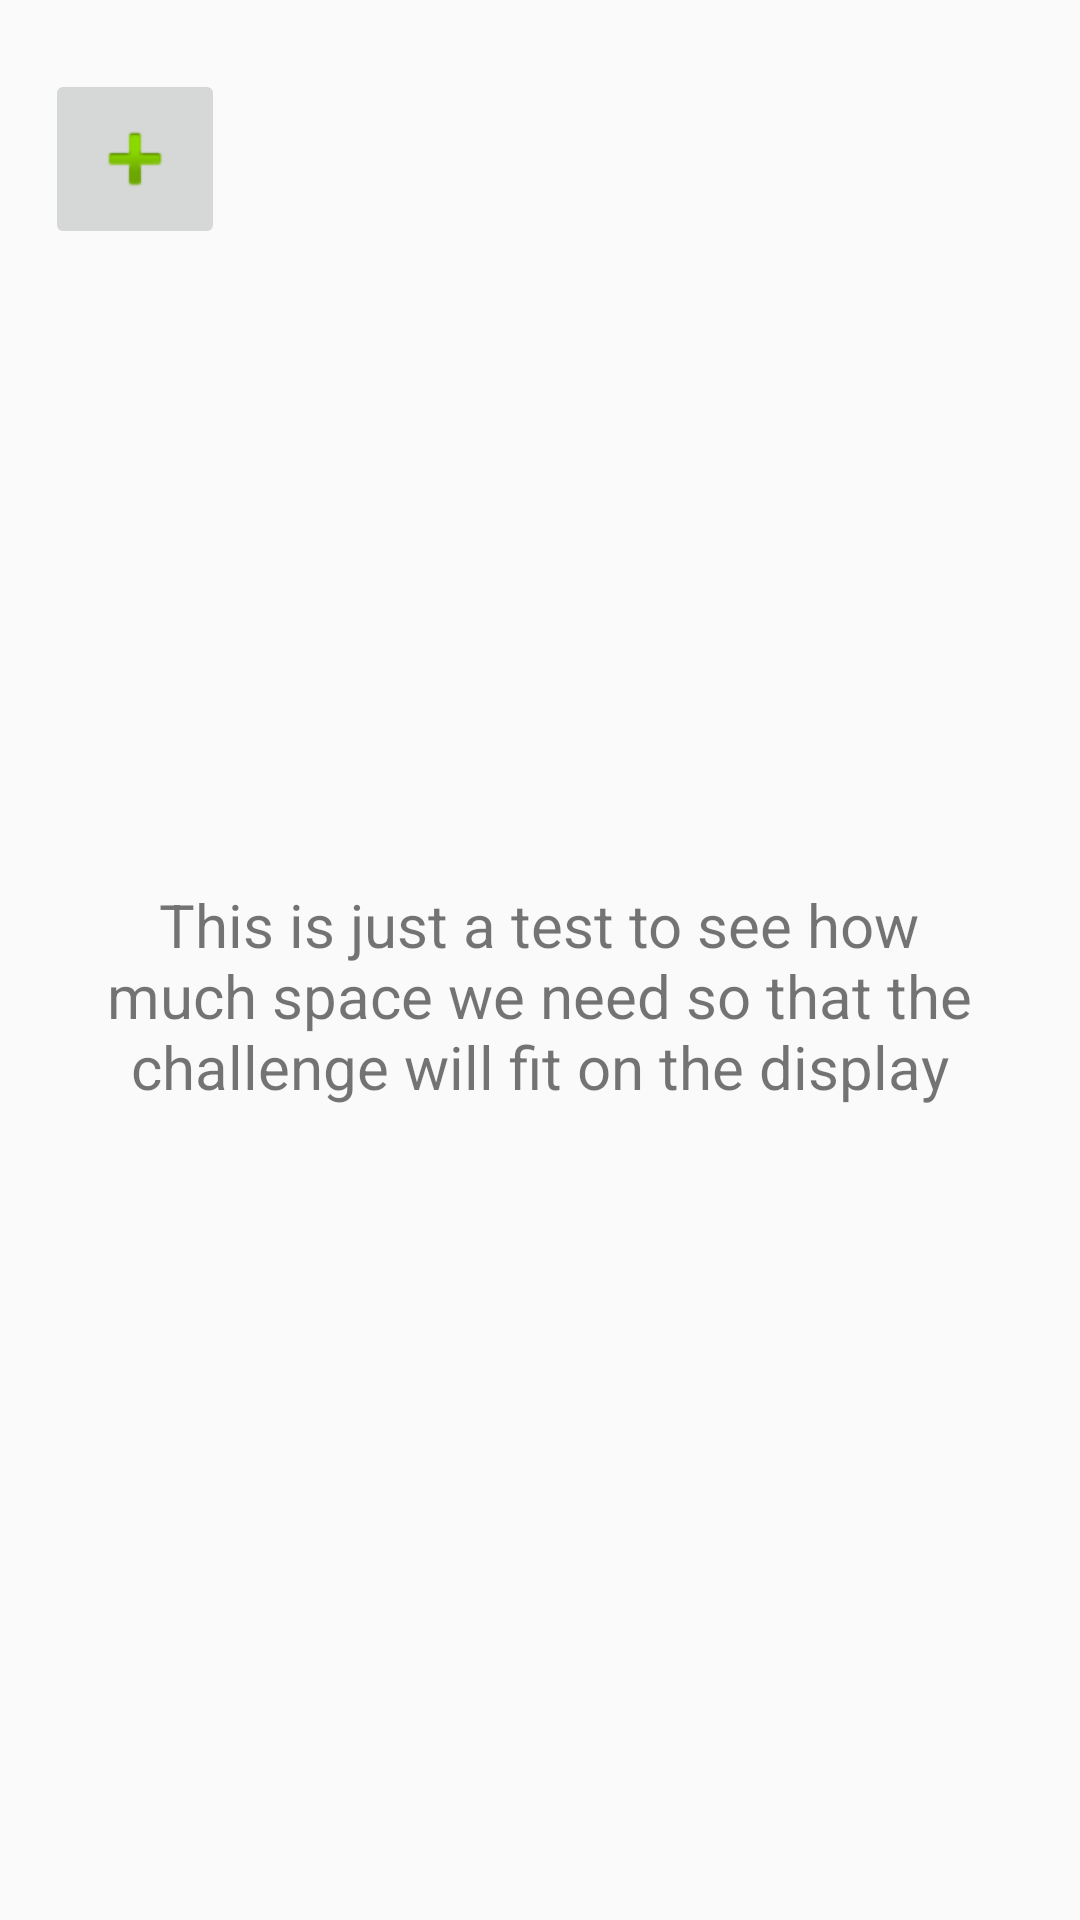

Icon bounding boxes for this 1080*1920 phone screenshot, format region(x1, y1, x2, y2):
add: region(57, 87, 213, 231)
